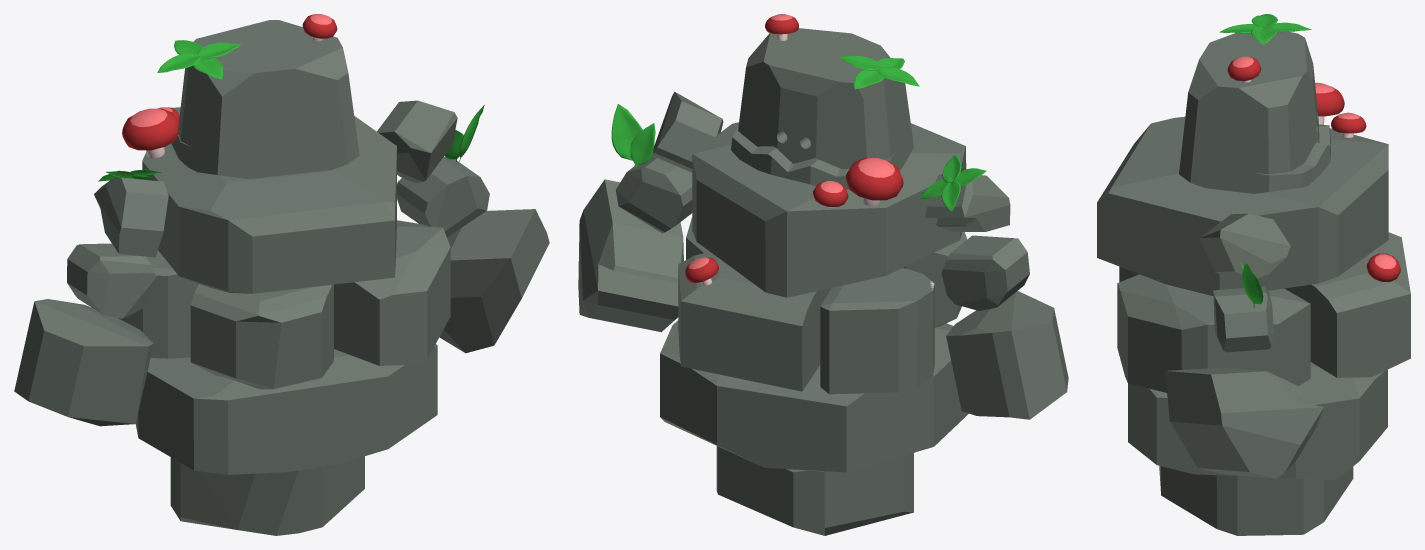
File: boss.obj
3 renders of one model, left to right at view 1: azimuth 30°, elevation 25°; view 2: azimuth 150°, elevation 25°; view 3: azimuth 270°, elevation 25°, orthographic. The views are drawn at different scales.
Visible parts, largest first — view 1: 円錐.007; view 2: 円錐.007; view 3: 円錐.007.
Part boxes in pixels (<box>): 円錐.007: <box>14,14,549,535</box>; 円錐.007: <box>578,14,1068,535</box>; 円錐.007: <box>1097,14,1410,535</box>.
Bounding box in the file's own units: 5.73 × 5.08 × 3.15.
Materials: 1 (1 with a texture image).
